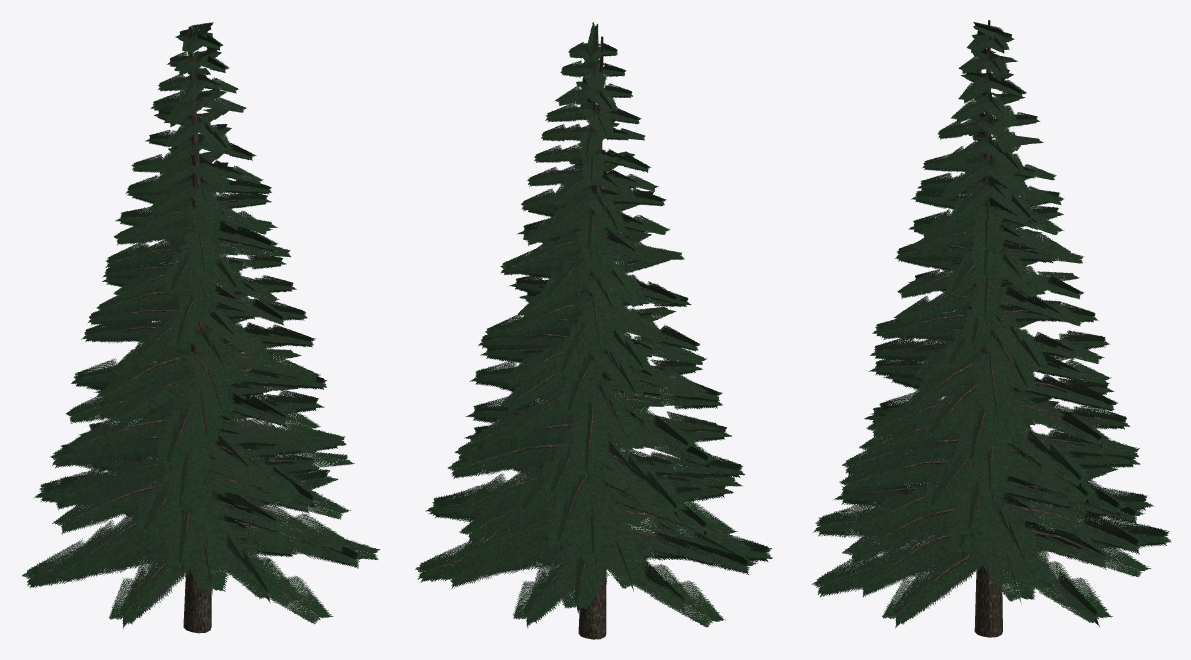
File: pine_tree.glb
3 renders of one model, left to right at view 1: azimuth 30°, elevation 25°; view 2: azimuth 150°, elevation 25°; view 3: azimuth 270°, elevation 25°, orthographic.
Parts seen in each view (by area): view 1: Pine; view 2: Pine; view 3: Pine.
Boxes of the visible parts, bbox=[...] form: Pine: bbox=[22, 22, 380, 633]; Pine: bbox=[415, 22, 772, 639]; Pine: bbox=[812, 20, 1171, 637].
Bounding box in the file's own units: 9.82 × 18.37 × 9.99.
2 materials, 2 textured.
